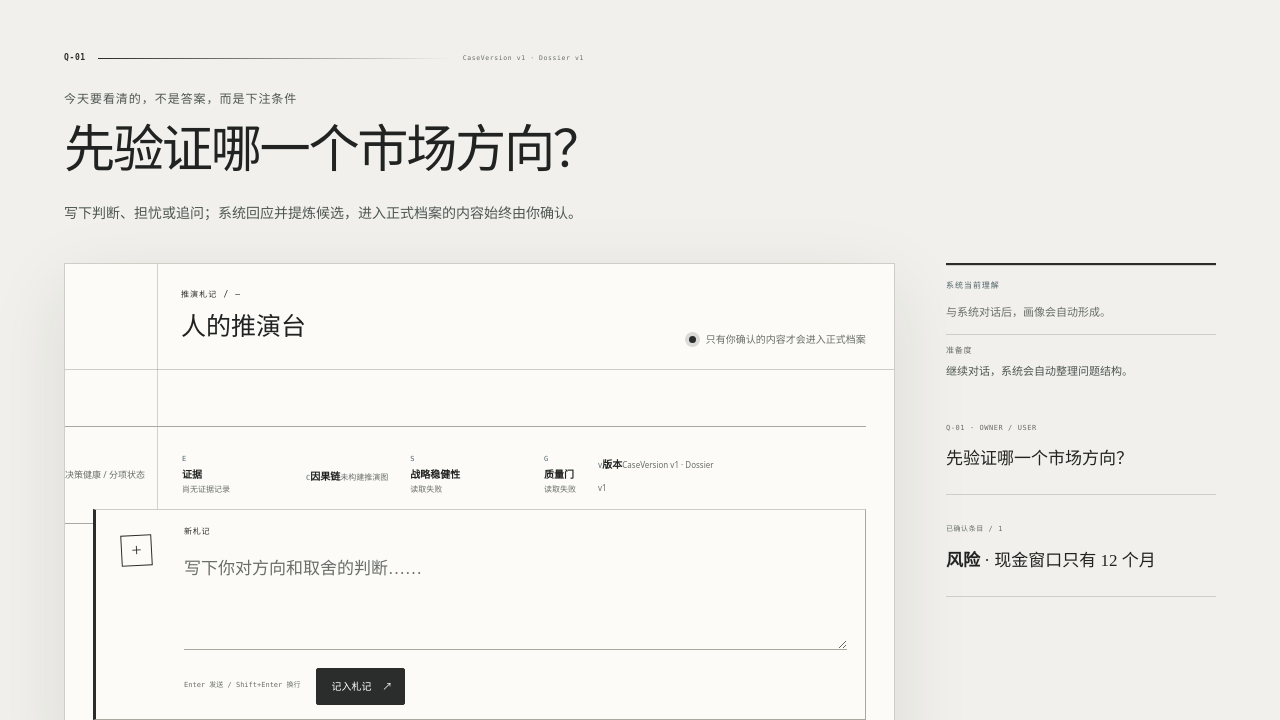
Test case: WorkspaceView live Q workspace › a failing reply keeps an honest notice and never fabricates a response
The width and height of the screenshot is (1280, 720).
Type "测试失败路径" into the text box named "写下你的判断、担忧、直觉或问题" at (515, 599), box [184,547,847,651]
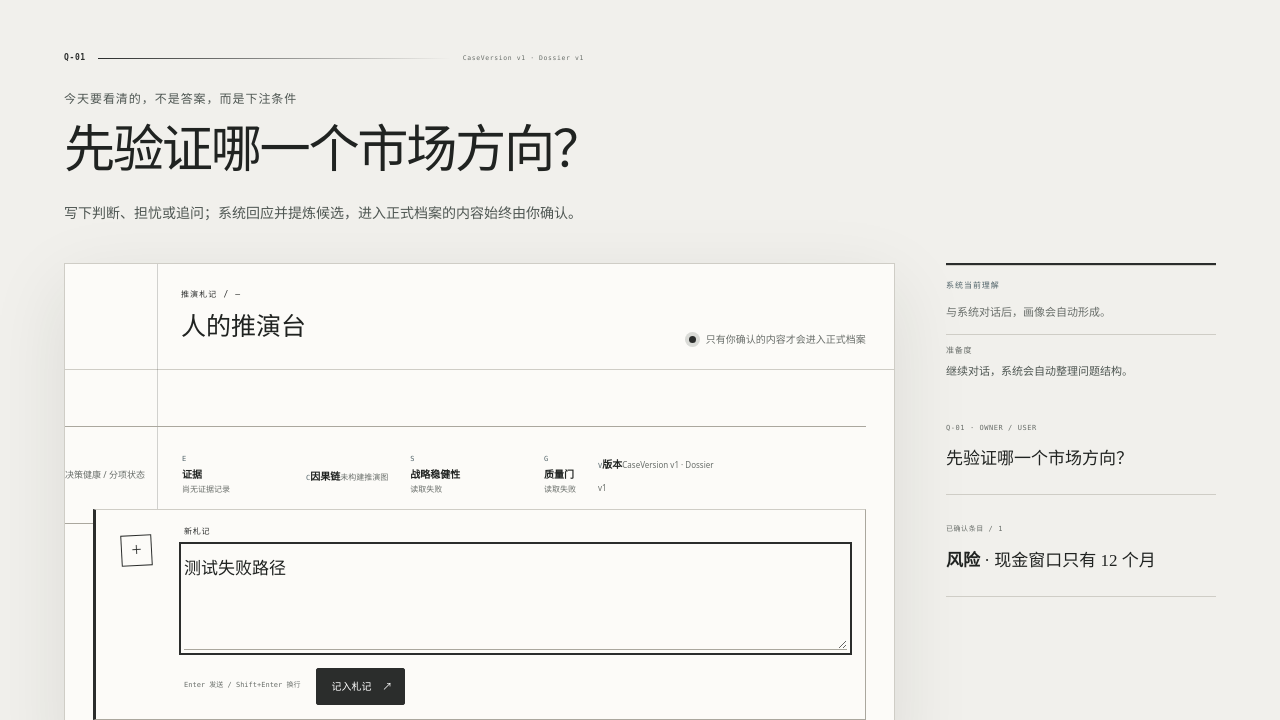
Click the button "记入札记 ↗" at (360, 686), box [316,668,405,705]
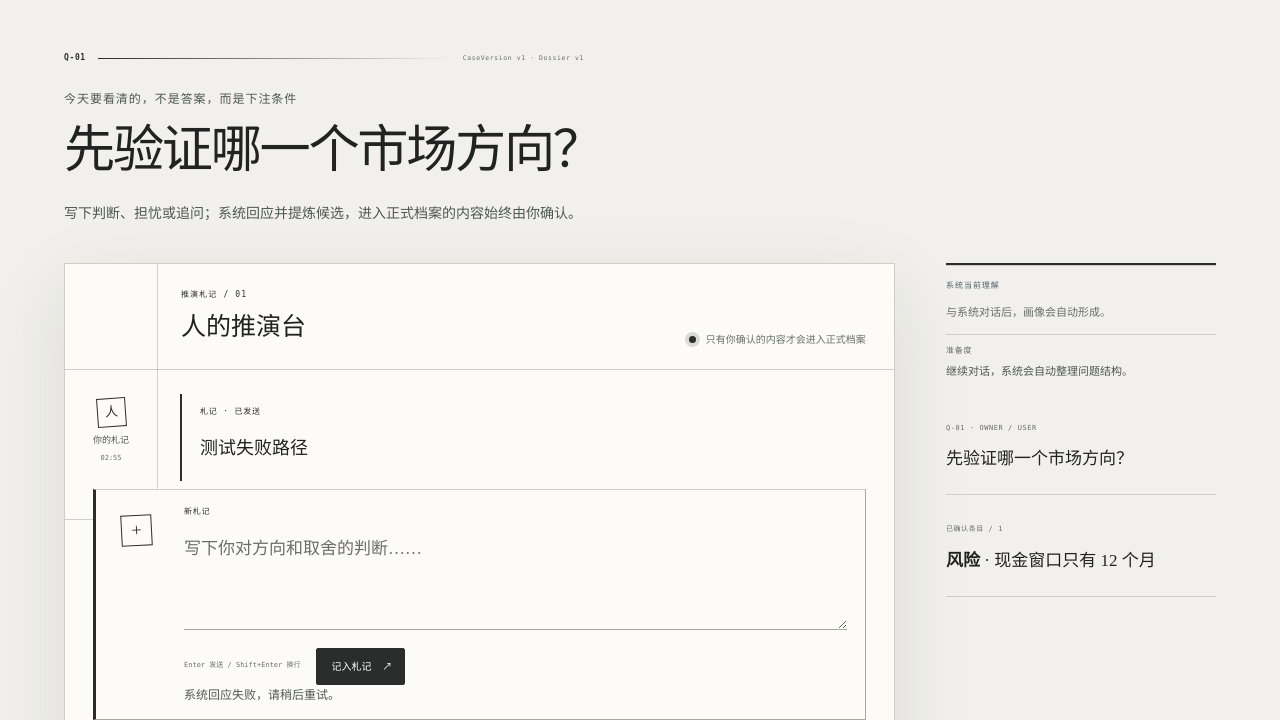
Expected: the message reads "系统回应失败，请稍后重试。", [184,686,340,703]
